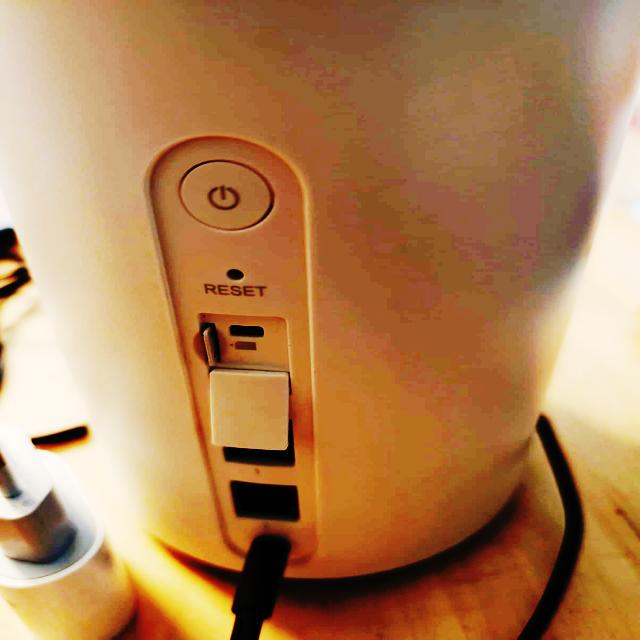lan: (231, 481, 306, 521)
modem: (0, 0, 590, 580)
onbutton: (177, 162, 277, 233)
